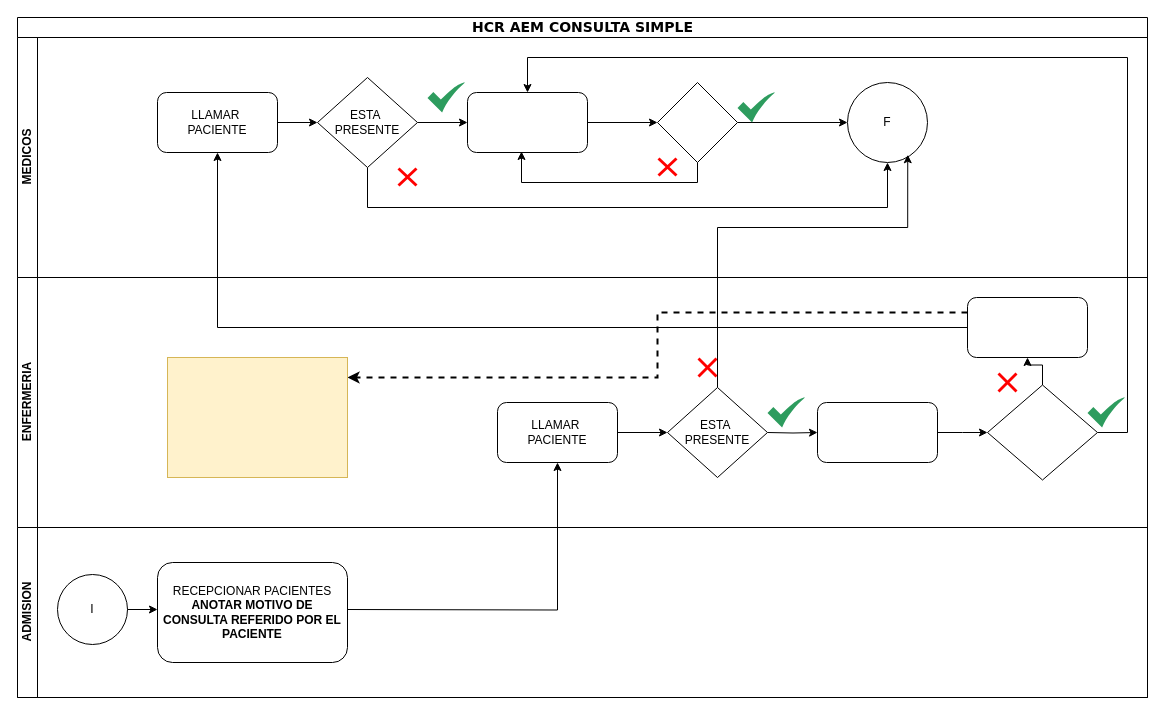
Image size: 1165x715. Some labels were removed from this diagram. Each missing label, with the centre of its shape:
"ATENDER PACIENTE" goes at (x=527, y=122).
"ESPERAR ATENCION MEDICA" goes at (x=1027, y=327).
"Esperar El Paciente queda en sala de espera hasta ser llamado por el enfermero" goes at (x=257, y=417).
"FINALIZA ATENCION" goes at (x=697, y=122).
"REALIZAR TRIAJE" goes at (x=877, y=432).
"Shocroom o boxes" goes at (x=1042, y=432).
